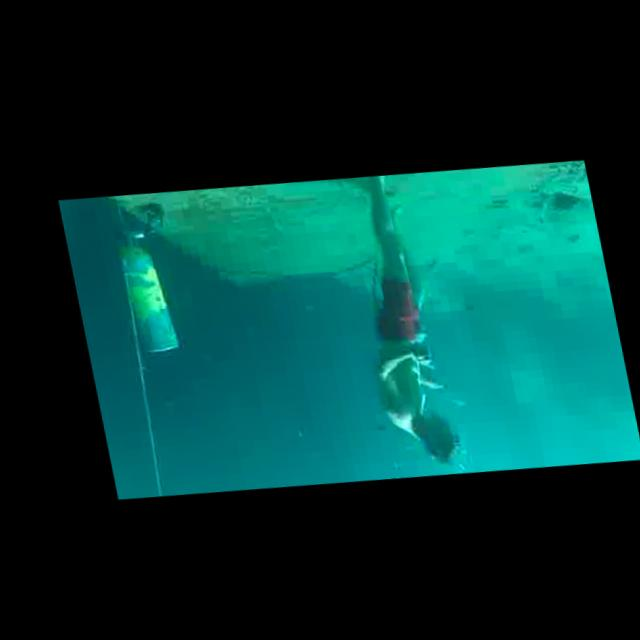human: (330, 168, 466, 470)
